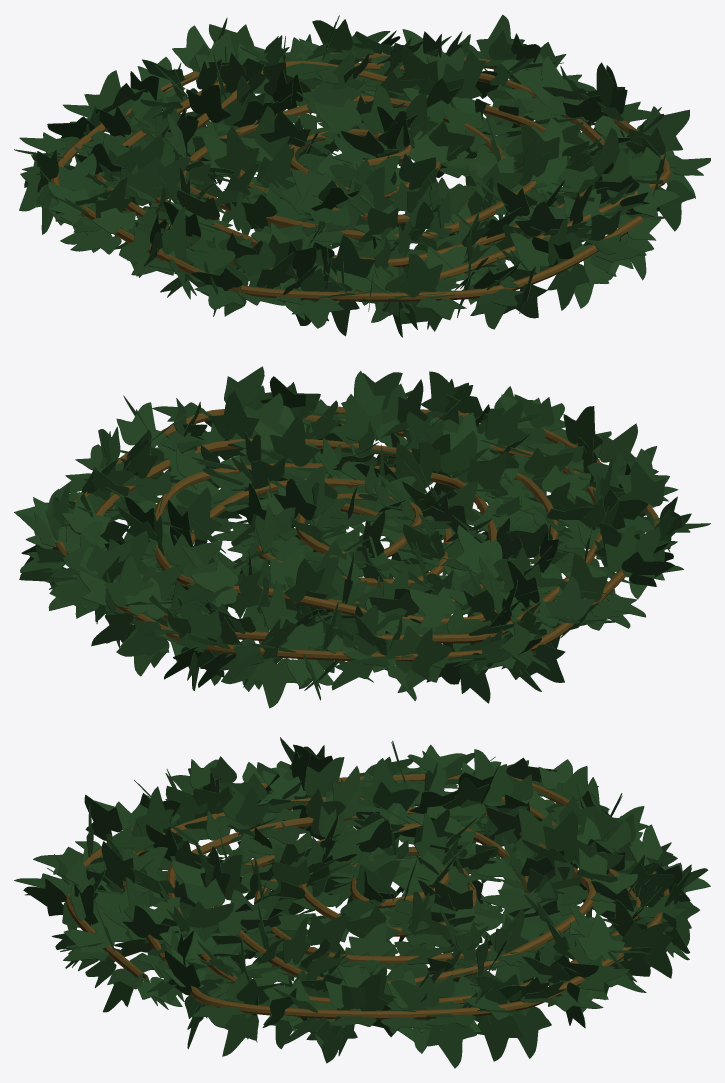
Rendered from Feuille lierre3.fbx.
3 views of the same model, one above another, from view 1: azimuth 30°, elevation 25°; view 2: azimuth 150°, elevation 25°; view 3: azimuth 270°, elevation 25° (orthographic).
Parts seen in each view (by area): view 1: BezierCurve; view 2: BezierCurve; view 3: BezierCurve.
Part boxes in pixels (bbox=[...]): BezierCurve: bbox=[14, 14, 710, 337]; BezierCurve: bbox=[14, 366, 710, 708]; BezierCurve: bbox=[14, 737, 710, 1068].
Size of the model in its own units: 569 by 111 by 604.
